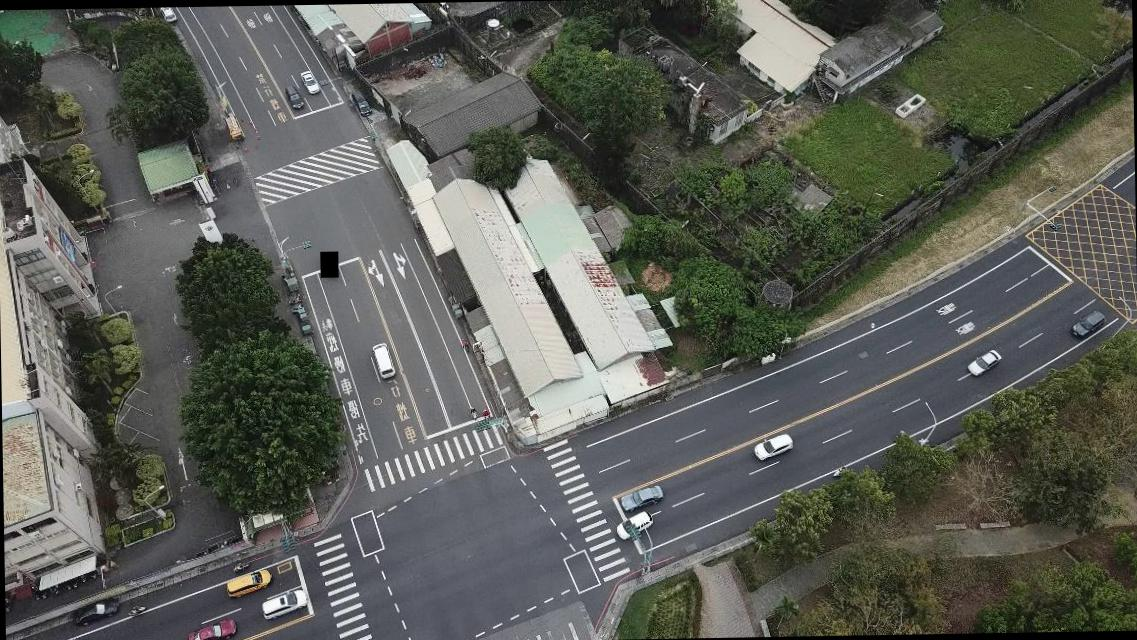vehicle: (260, 586, 308, 622), (224, 566, 273, 599), (74, 598, 122, 629), (619, 484, 665, 511), (615, 512, 656, 542), (1070, 308, 1108, 340), (184, 617, 239, 639), (753, 432, 794, 460), (968, 348, 1004, 378), (371, 342, 397, 380), (223, 113, 246, 142), (350, 90, 371, 116), (285, 84, 304, 110), (302, 70, 320, 94), (160, 8, 178, 22)
